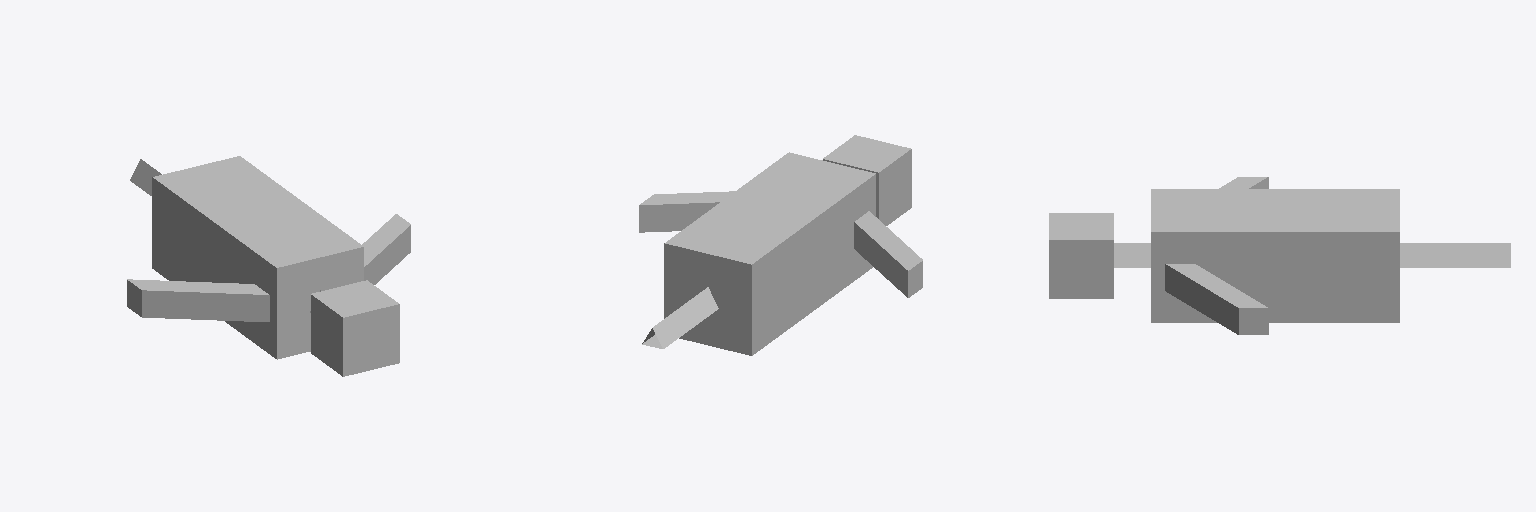
File: Scarecrow.obj
3 renders of one model, left to right at view 1: azimuth 30°, elevation 25°; view 2: azimuth 150°, elevation 25°; view 3: azimuth 270°, elevation 25°, orthographic.
Parts seen in each view (by area): view 1: Circle.001; view 2: Circle.001; view 3: Circle.001.
Part boxes in pixels (left/top/right/bottom): Circle.001: left=127, top=156, right=410, bottom=376; Circle.001: left=639, top=135, right=922, bottom=355; Circle.001: left=1049, top=177, right=1510, bottom=334.
Size of the model in its own units: 1.66 by 0.5375 by 2.46.